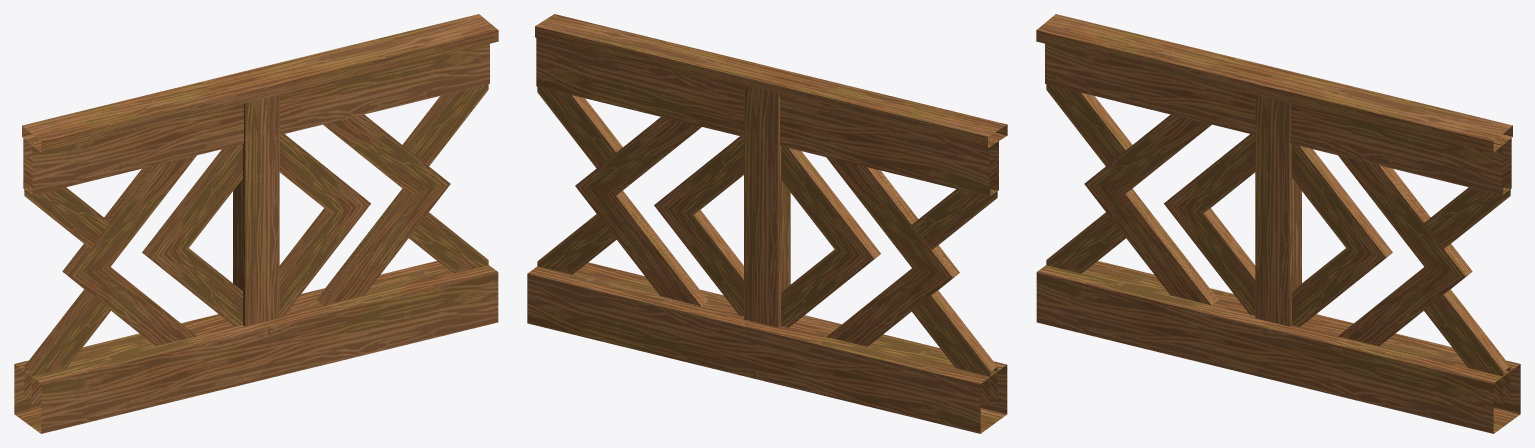
Rendered from wall-qm-balconycrossstraight.glb.
The picture shows the model from 3 angles, left to right: view 1: azimuth 30°, elevation 25°; view 2: azimuth 150°, elevation 25°; view 3: azimuth 330°, elevation 25°; orthographic projection.
Visible parts, largest first — view 1: Cube_111; view 2: Cube_111; view 3: Cube_111.
Part boxes in pixels (box(x1,y1,x2,y2)): Cube_111: box(14, 14, 498, 433); Cube_111: box(527, 14, 1007, 433); Cube_111: box(1036, 14, 1520, 433).
Bounding box in the file's own units: 2 × 1.23 × 0.2063.
Materials: 1 (1 with a texture image).
